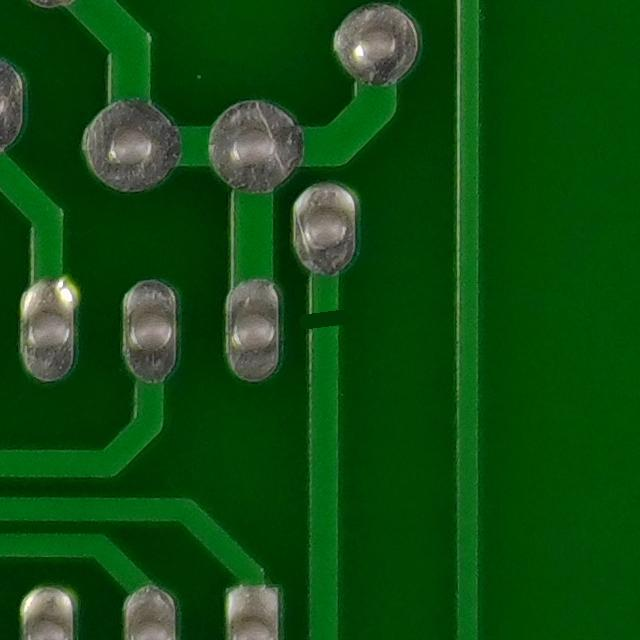open_circuit: (285, 295, 355, 346)
